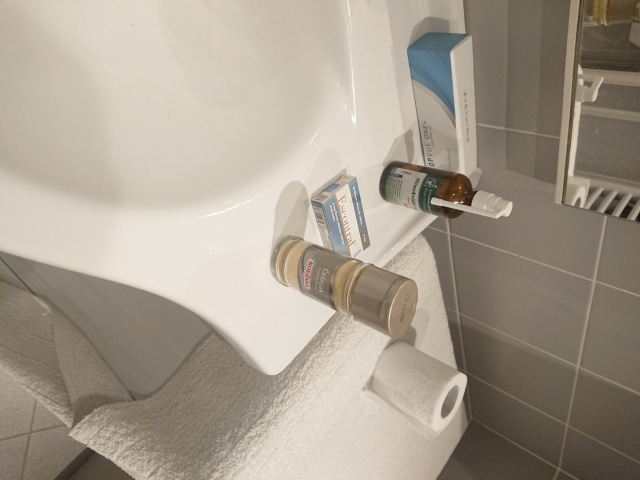Kotanyi Garlic Granules 70g: (268, 233, 419, 343)
